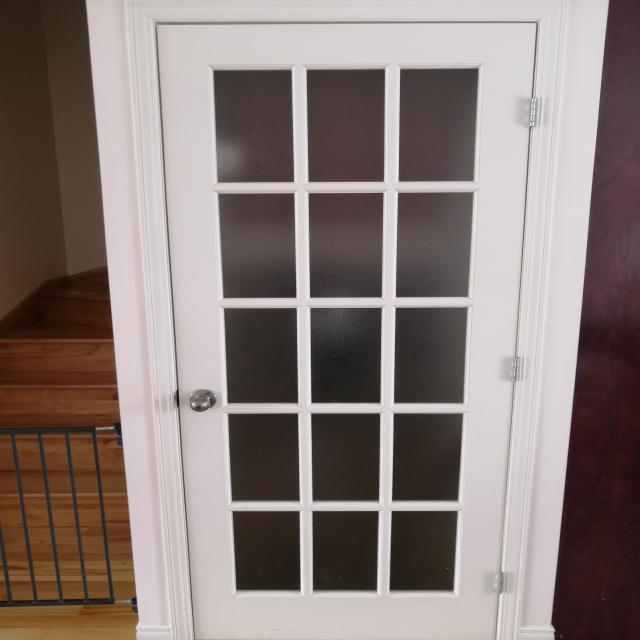door-knob: (190, 390, 217, 411)
